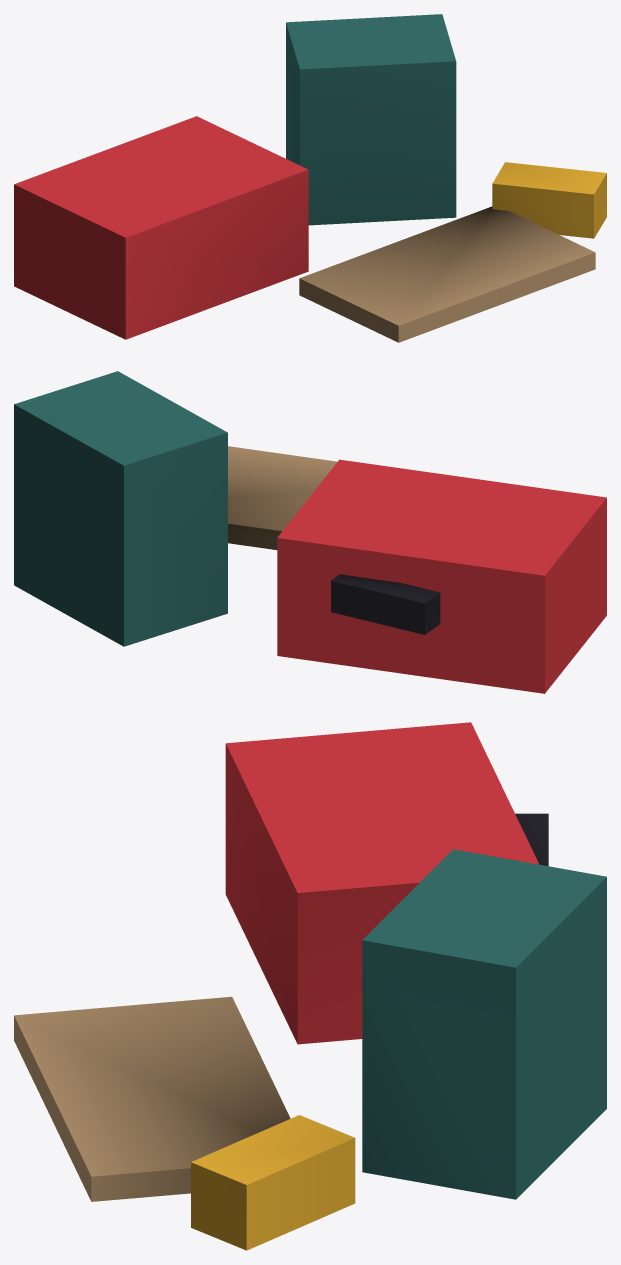
File: decay.dropped-belongings.lod2.glb
The picture shows the model from 3 angles, top to bottom: view 1: azimuth 30°, elevation 25°; view 2: azimuth 150°, elevation 25°; view 3: azimuth 270°, elevation 25°; orthographic projection. The views are drawn at different scales.
Parts seen in each view (by area): view 1: body; view 2: body; view 3: body.
Boxes of the visible parts, bbox=[...] form: body: bbox=[14, 14, 606, 342]; body: bbox=[14, 371, 606, 693]; body: bbox=[14, 722, 606, 1250].
Bounding box in the file's own units: 1.59 × 0.46 × 1.07.
